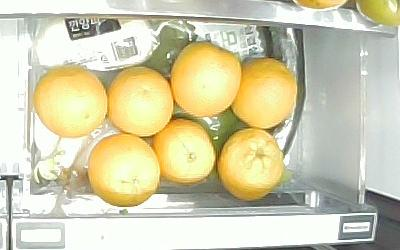orange: (31, 63, 108, 139), (87, 134, 159, 207), (173, 42, 241, 118), (219, 128, 285, 202), (233, 56, 298, 129), (107, 66, 173, 136), (154, 117, 216, 185)
